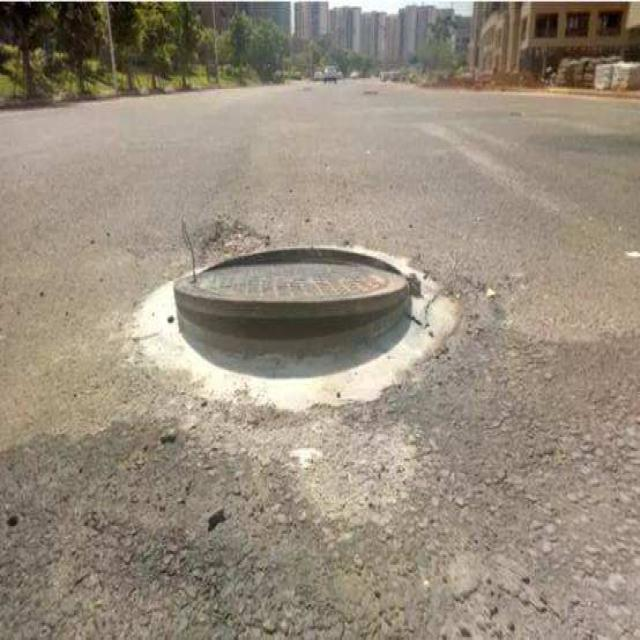manhole-cover: (168, 244, 426, 339)
